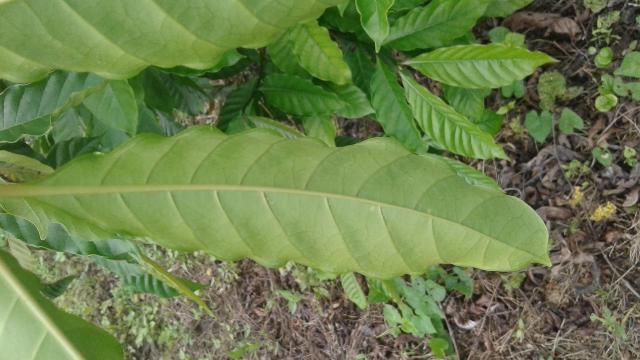healthy: (4, 125, 552, 278)
